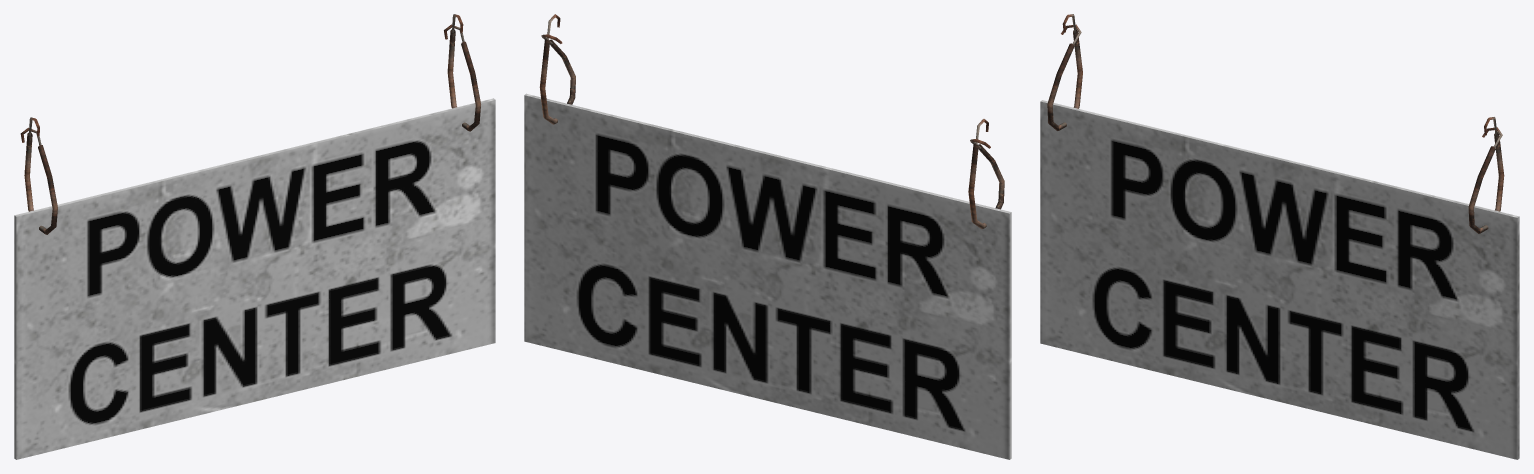
The model's file is Sign_PowerCenter.fbx.
3 views of the same model, side by side, from view 1: azimuth 30°, elevation 25°; view 2: azimuth 150°, elevation 25°; view 3: azimuth 330°, elevation 25° (orthographic).
Visible parts, largest first — view 1: Sign_PowerCenter; view 2: Sign_PowerCenter; view 3: Sign_PowerCenter.
Boxes of the visible parts, <box> form: Sign_PowerCenter: <box>14,14,495,459</box>; Sign_PowerCenter: <box>524,14,1011,459</box>; Sign_PowerCenter: <box>1040,14,1519,459</box>.
Size of the model in its own units: 63.81 by 42.35 by 7.34.
